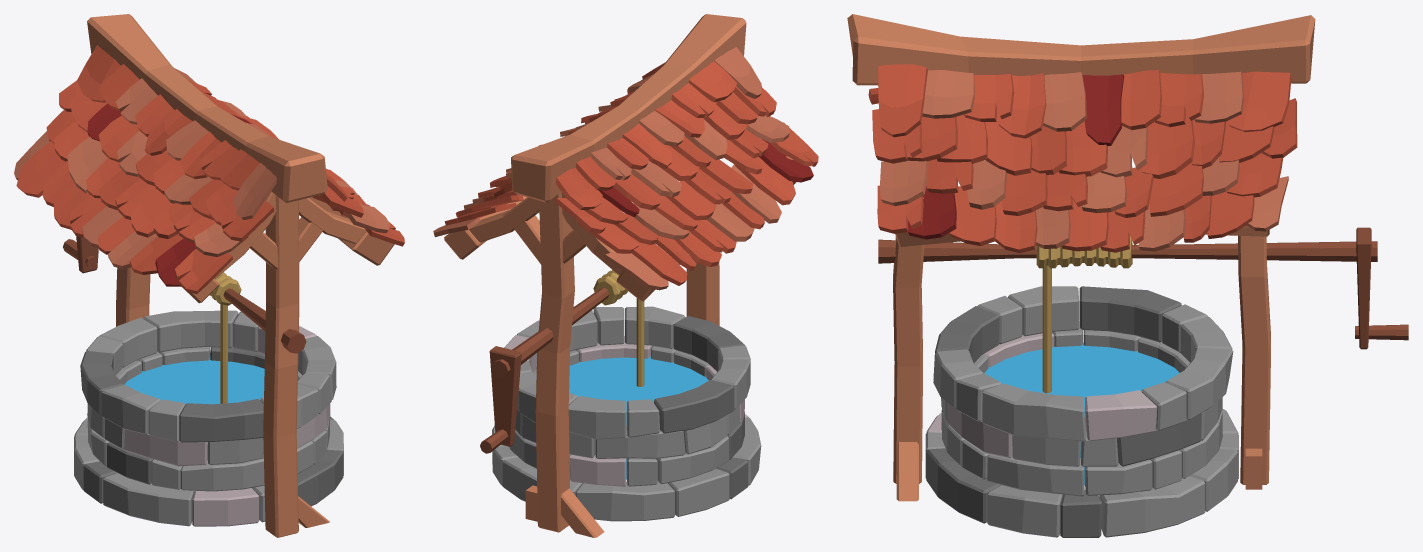
File: Sumur.fbx
3 renders of one model, left to right at view 1: azimuth 30°, elevation 25°; view 2: azimuth 150°, elevation 25°; view 3: azimuth 270°, elevation 25°, orthographic. The views are drawn at different scales.
Parts seen in each view (by area): view 1: Atap, Sumur, Penyangga, Air, Penggulung, Tali; view 2: Atap, Sumur, Penyangga, Air, Penggulung, Tali; view 3: Atap, Sumur, Penyangga, Penggulung, Air, Tali.
Boxes of the visible parts, x1,y1,x2,y2 form: Atap: (14, 45, 404, 294); Sumur: (74, 310, 343, 526); Penyangga: (87, 14, 394, 537); Air: (124, 355, 264, 460); Penggulung: (63, 236, 306, 353); Tali: (209, 272, 241, 403); Atap: (433, 47, 818, 290); Sumur: (492, 306, 761, 521); Penyangga: (444, 14, 796, 537); Air: (569, 356, 708, 479); Penggulung: (480, 287, 609, 453); Tali: (593, 270, 644, 386); Atap: (868, 64, 1297, 253); Sumur: (925, 286, 1238, 537); Penyangga: (847, 14, 1315, 501); Penggulung: (878, 227, 1408, 349); Air: (984, 342, 1179, 485); Tali: (1036, 236, 1132, 393).
Size of the model in its own units: 1888 by 2756 by 3076.
